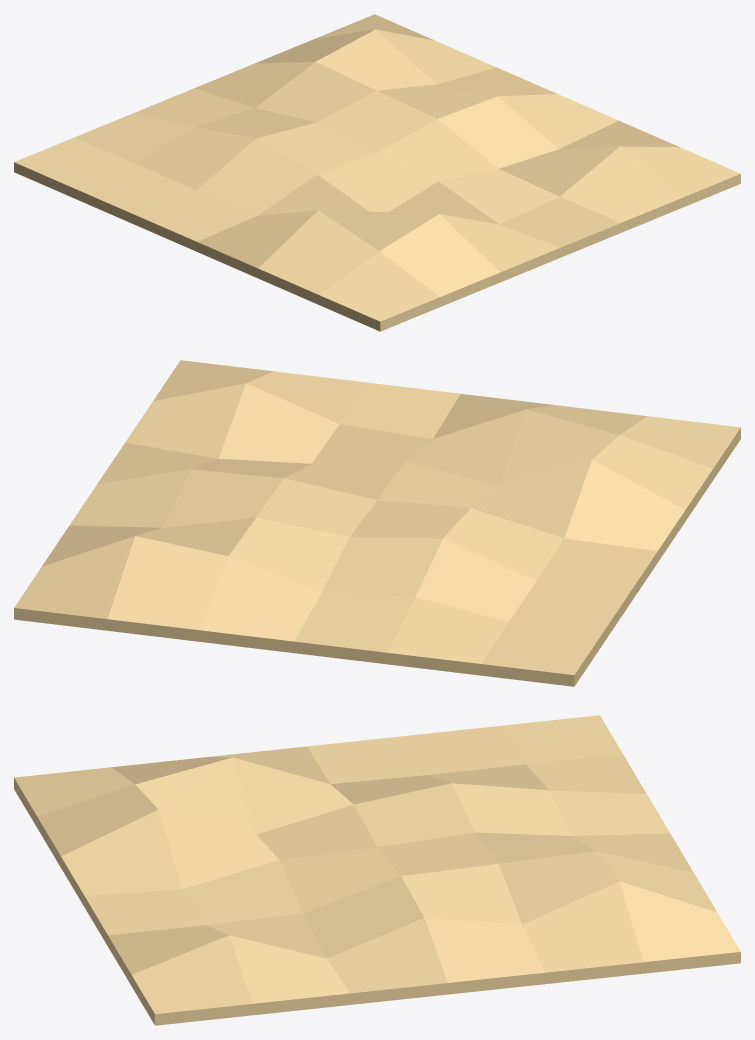
File: Sand 1.fbx
3 renders of one model, top to bottom at view 1: azimuth 30°, elevation 25°; view 2: azimuth 150°, elevation 25°; view 3: azimuth 270°, elevation 25°, orthographic. The views are drawn at different scales.
Visible parts, largest first — view 1: Sand 1; view 2: Sand 1; view 3: Sand 1.
Part boxes in pixels (x1,y1,x2,y2): Sand 1: (14, 14, 740, 331); Sand 1: (14, 360, 740, 686); Sand 1: (14, 715, 740, 1025).
Bounding box in the file's own units: 677 × 696 × 56.
